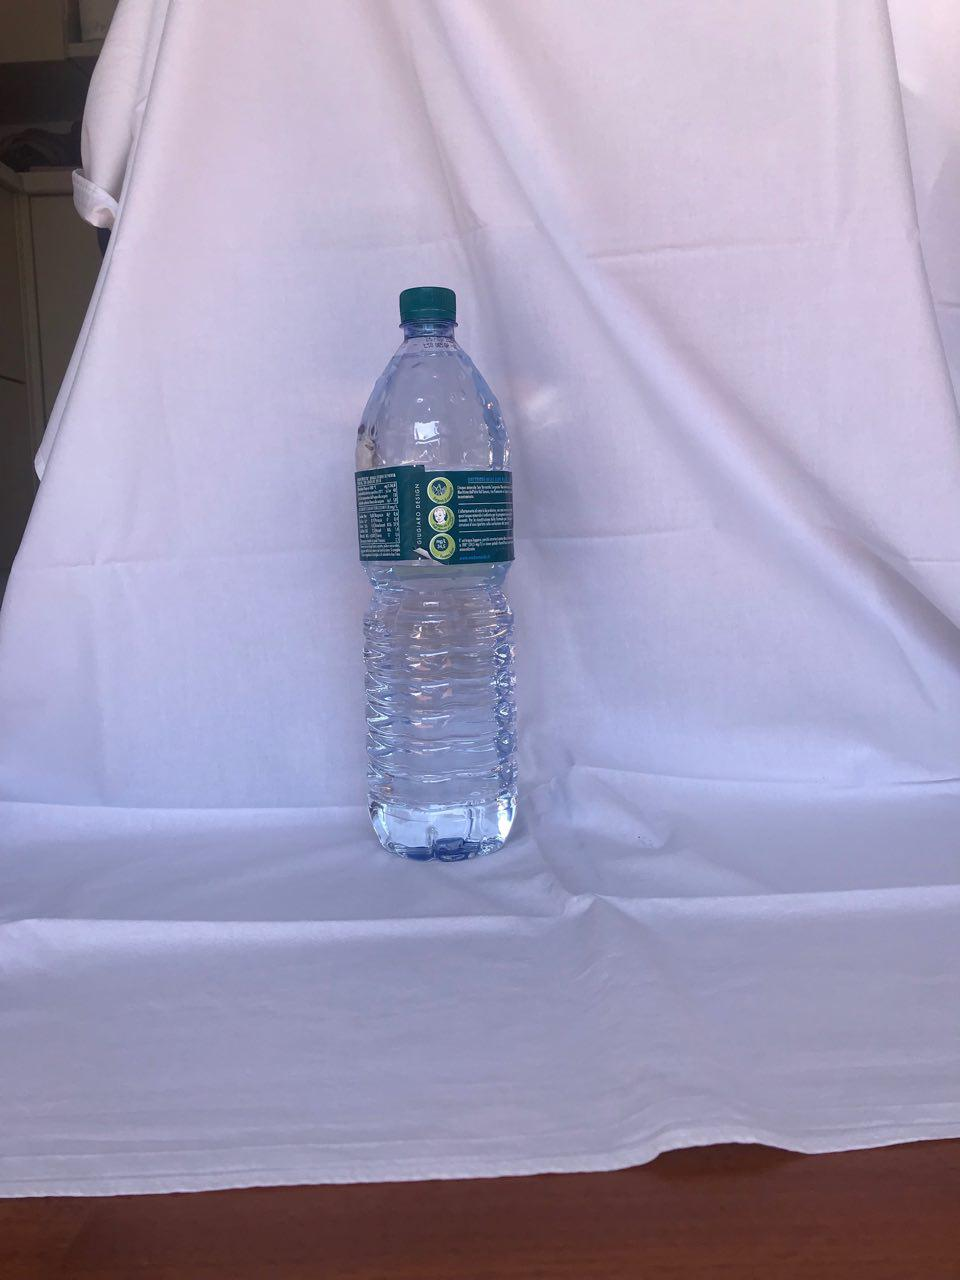san_bernardo: (352, 284, 522, 861)
